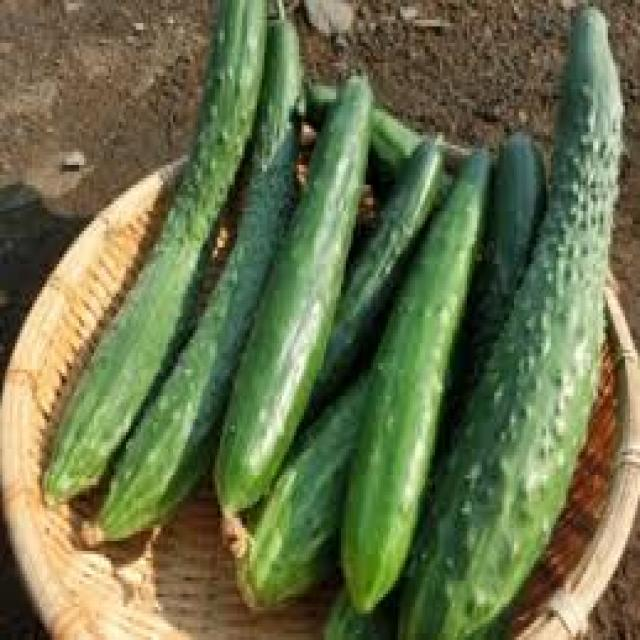organic waste: (395, 3, 623, 637), (81, 0, 296, 544), (44, 0, 264, 501), (210, 69, 373, 548), (338, 152, 487, 607), (230, 360, 366, 600), (324, 132, 442, 402), (460, 128, 546, 426), (299, 79, 467, 218)
